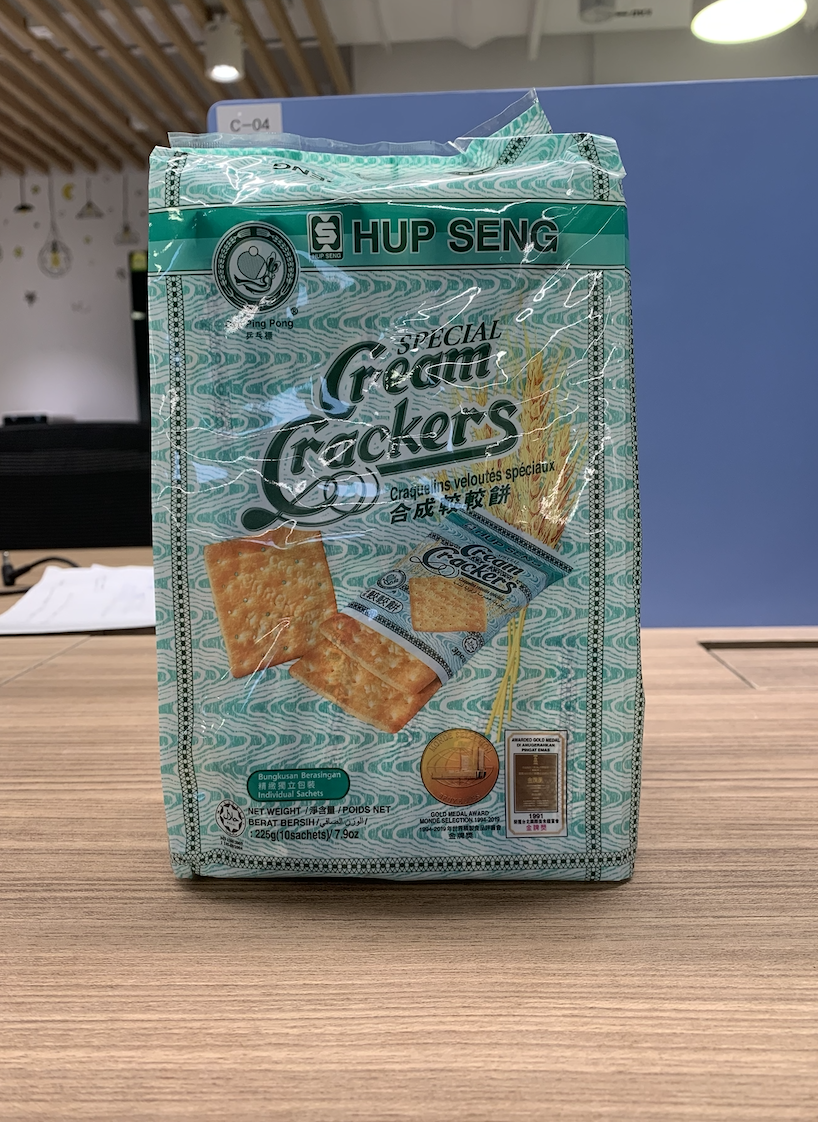crackers_200g-299g: (160, 157, 634, 871)
